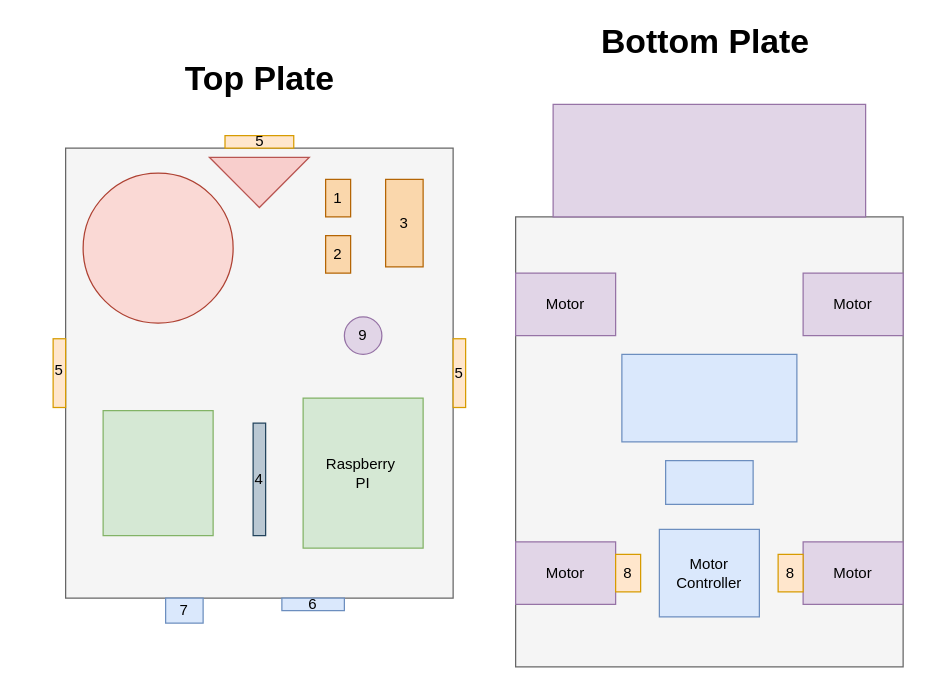
This 925x689 diagram has some shape labels left out. The centre of each missing label's shape, as x and y in pixels:
12V Battery: (x=709, y=397)
5V Regulator: (x=708, y=481)
Arduino UNO: (x=157, y=472)
Collection and Storage Mechanism: (x=709, y=160)
LiDAR: (x=157, y=247)
Pi Cam: (x=258, y=182)
